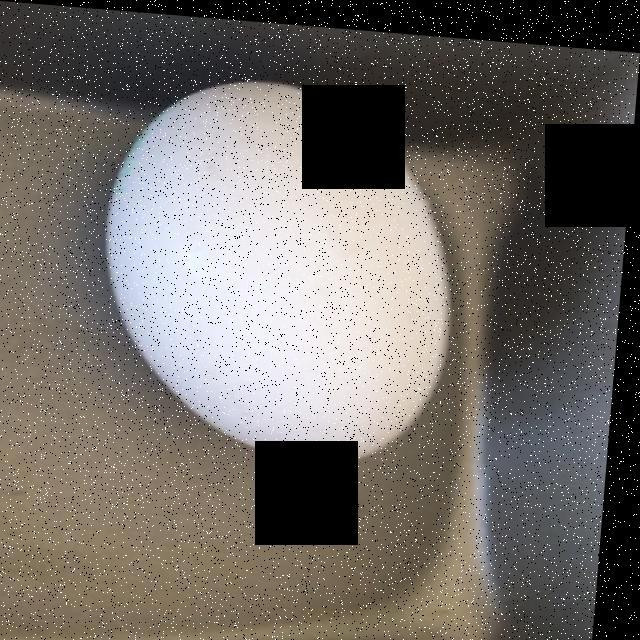egg: (119, 82, 446, 454)
